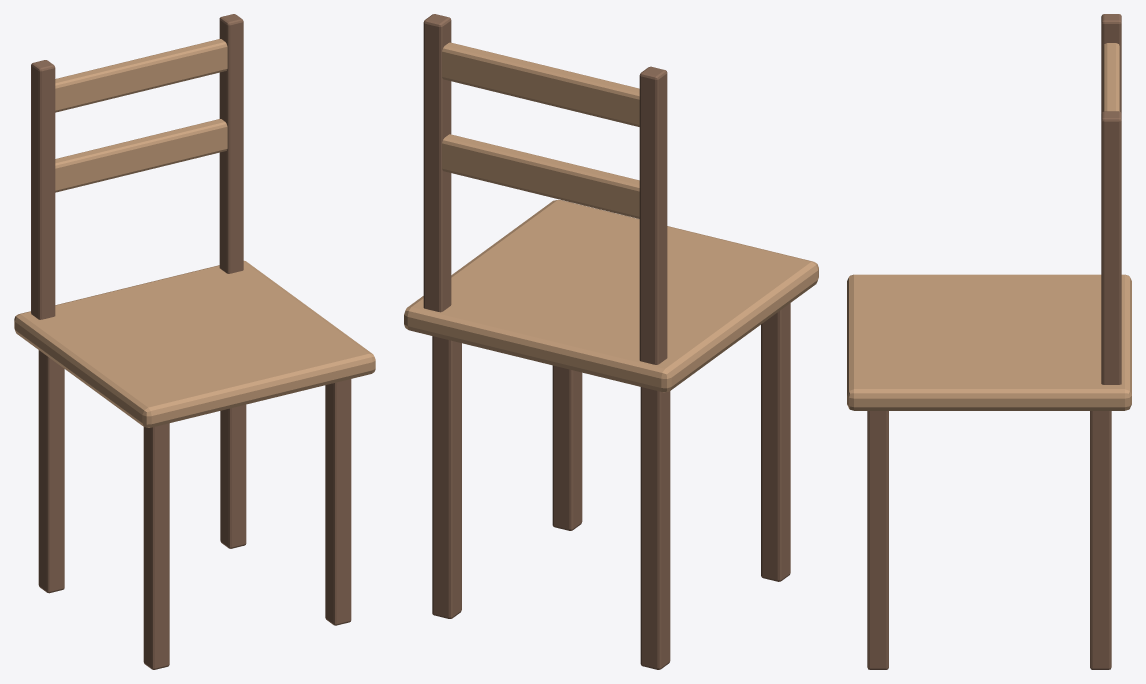
The model's file is hh_kitchen_chair.glb.
The picture shows the model from 3 angles, left to right: view 1: azimuth 30°, elevation 25°; view 2: azimuth 150°, elevation 25°; view 3: azimuth 270°, elevation 25°; orthographic projection. The views are drawn at different scales.
Parts seen in each view (by area): view 1: seat, leg, leg.002, post, leg.001, post.001, slat.001, slat, leg.003; view 2: seat, leg.001, post, leg.003, leg, post.001, slat.001, slat, leg.002; view 3: seat, post.001, leg.002, leg.003, slat, post.
Part boxes in pixels (box(x1,y1,x2,y2)): seat: box(14, 260, 375, 427); leg: box(143, 423, 169, 669); leg.002: box(325, 379, 351, 625); post: box(31, 60, 55, 319); leg.001: box(38, 350, 64, 593); post.001: box(219, 14, 243, 273); slat.001: box(55, 119, 227, 192); slat: box(55, 39, 227, 112); leg.003: box(220, 404, 246, 548); seat: box(404, 200, 818, 392); leg.001: box(640, 387, 670, 669); post: box(639, 66, 667, 364); leg.003: box(432, 336, 461, 618); leg: box(761, 303, 790, 581); post.001: box(423, 14, 451, 312); slat.001: box(442, 134, 639, 218); slat: box(442, 42, 639, 126); leg.002: box(552, 365, 582, 530); seat: box(847, 274, 1131, 410); post.001: box(1101, 111, 1121, 384); leg.002: box(867, 411, 888, 669); leg.003: box(1090, 411, 1111, 669); slat: box(1103, 43, 1119, 111); post: box(1101, 14, 1121, 113).
Bounding box in the file's own units: 0.42 × 0.9 × 0.42.
